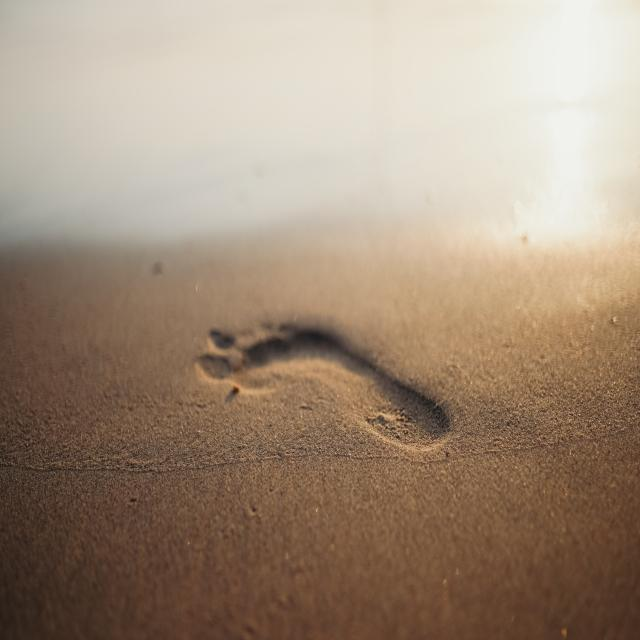human_foot_print: (190, 313, 456, 461)
